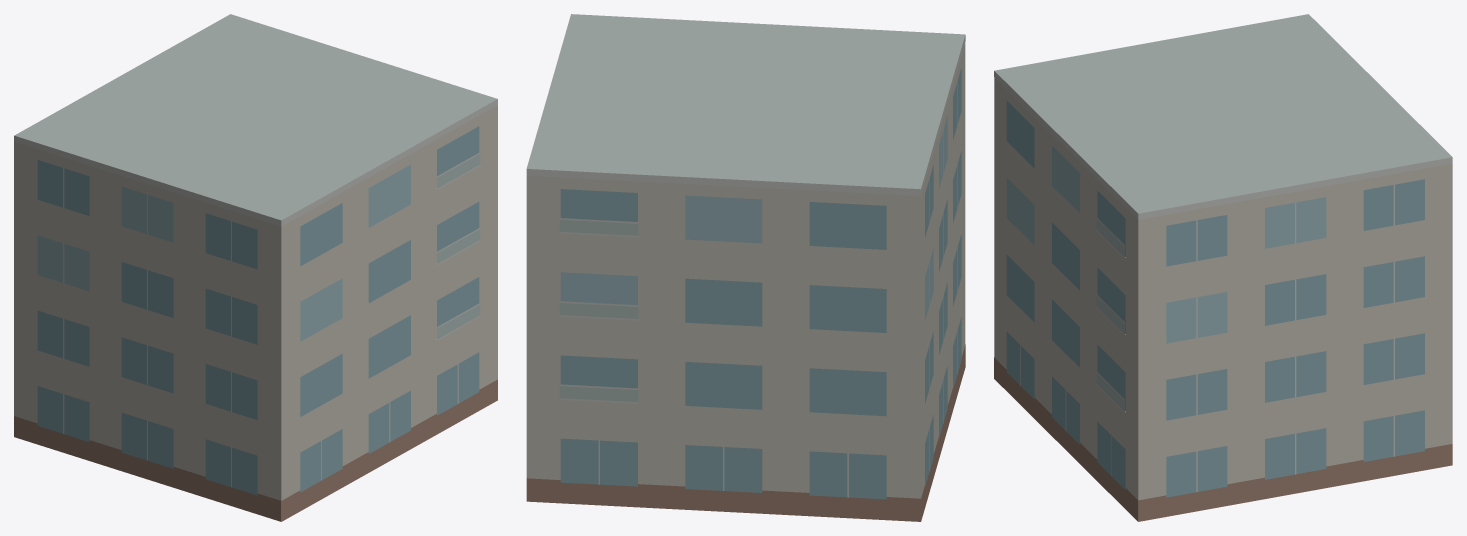
Rendered from survey-upis-32852938.glb.
3 renders of one model, left to right at view 1: azimuth 30°, elevation 25°; view 2: azimuth 150°, elevation 25°; view 3: azimuth 270°, elevation 25°, orthographic. The views are drawn at different scales.
Parts seen in each view (by area): view 1: survey-upis-32852938.tmp; view 2: survey-upis-32852938.tmp; view 3: survey-upis-32852938.tmp.
Boxes of the visible parts, <box> form: survey-upis-32852938.tmp: <box>14,14,497,521</box>; survey-upis-32852938.tmp: <box>526,14,965,521</box>; survey-upis-32852938.tmp: <box>994,14,1452,521</box>.
Bounding box in the file's own units: 16.69 × 12 × 16.19.
